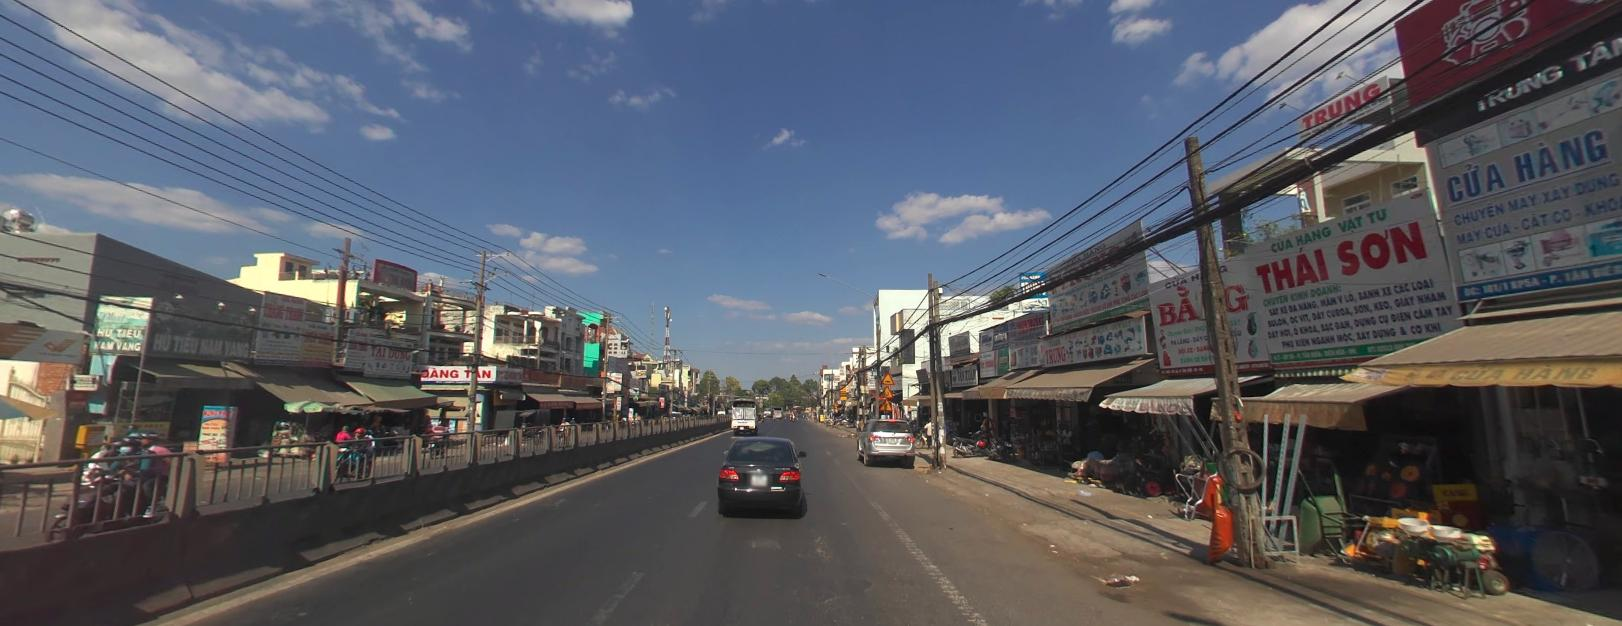Nguy hiem: (878, 384, 892, 395), (880, 371, 893, 383), (878, 398, 891, 409)
